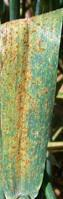Wheat: (1, 24, 41, 188)
